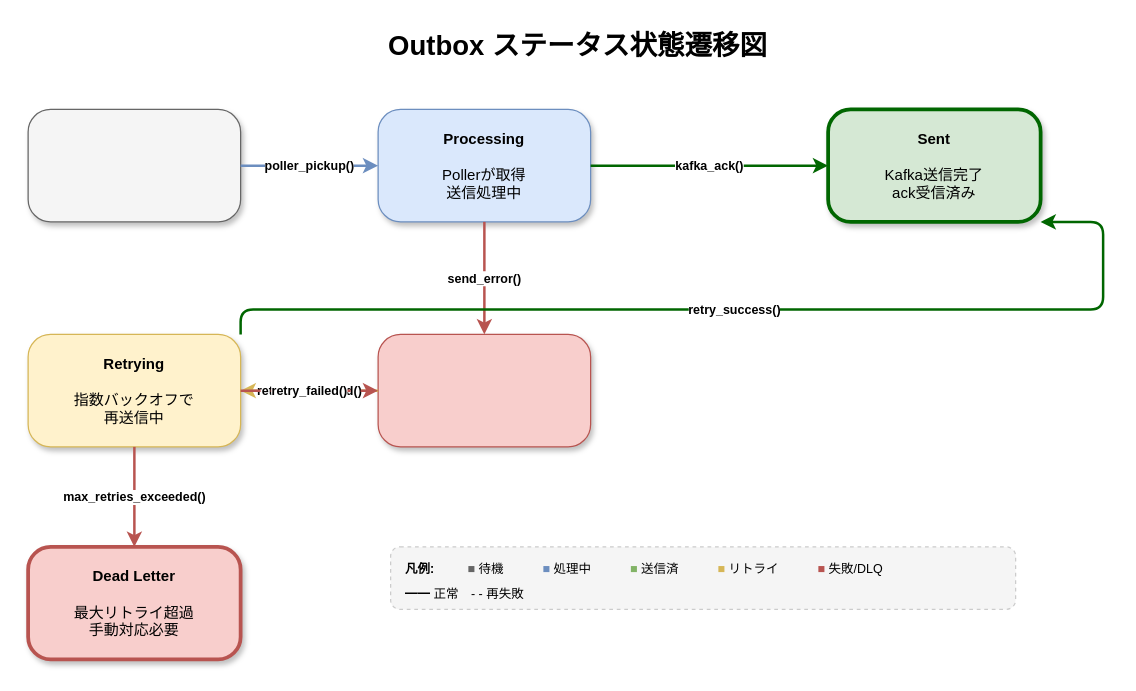
Some shapes in this 1136 by 691 pixel diagram are drawn without their labels. Each missing label, with the centre of its shape:
"Failed 送信失敗 リトライ対象" goes at [485,392].
"Pending メッセージ登録済み 送信待ち" goes at [135,167].
